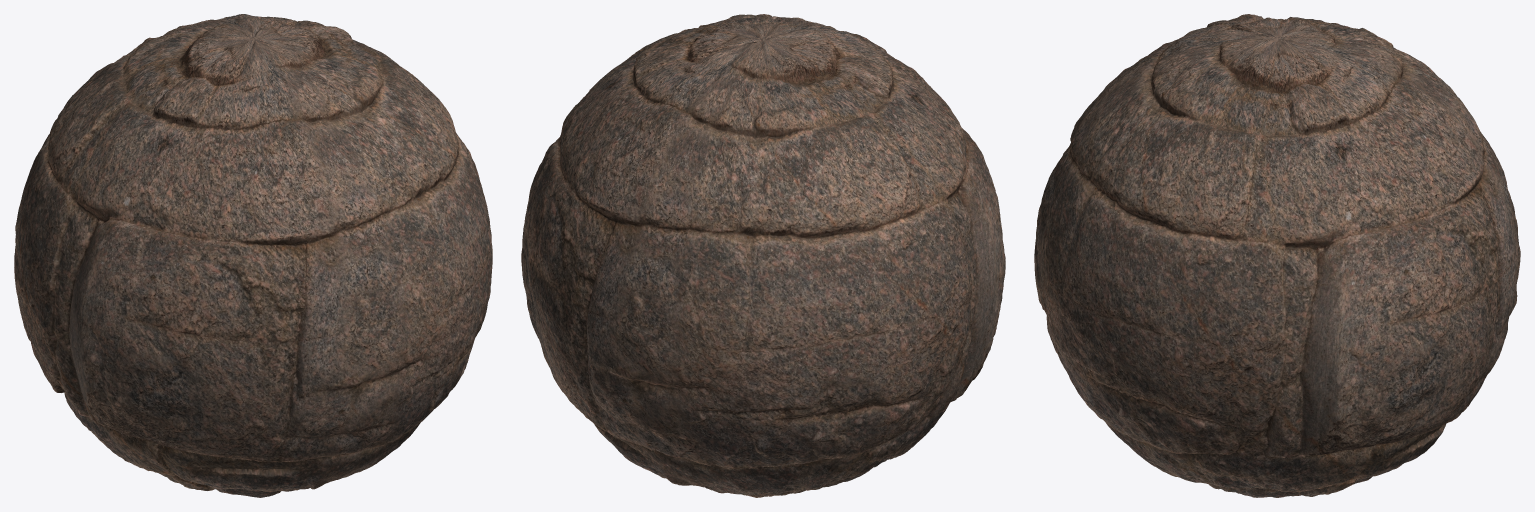
File: dry_riverbed_rock_1k.gltf
3 views of the same model, side by side, from view 1: azimuth 30°, elevation 25°; view 2: azimuth 150°, elevation 25°; view 3: azimuth 270°, elevation 25° (orthographic).
Visible parts, largest first — view 1: sphere_gltf; view 2: sphere_gltf; view 3: sphere_gltf.
Boxes of the visible parts, x1,y1,x2,y2 form: sphere_gltf: [14, 14, 492, 497]; sphere_gltf: [521, 14, 1005, 497]; sphere_gltf: [1034, 14, 1520, 497].
Bounding box in the file's own units: 2.04 × 2.05 × 2.05.
1 material, 1 textured.
